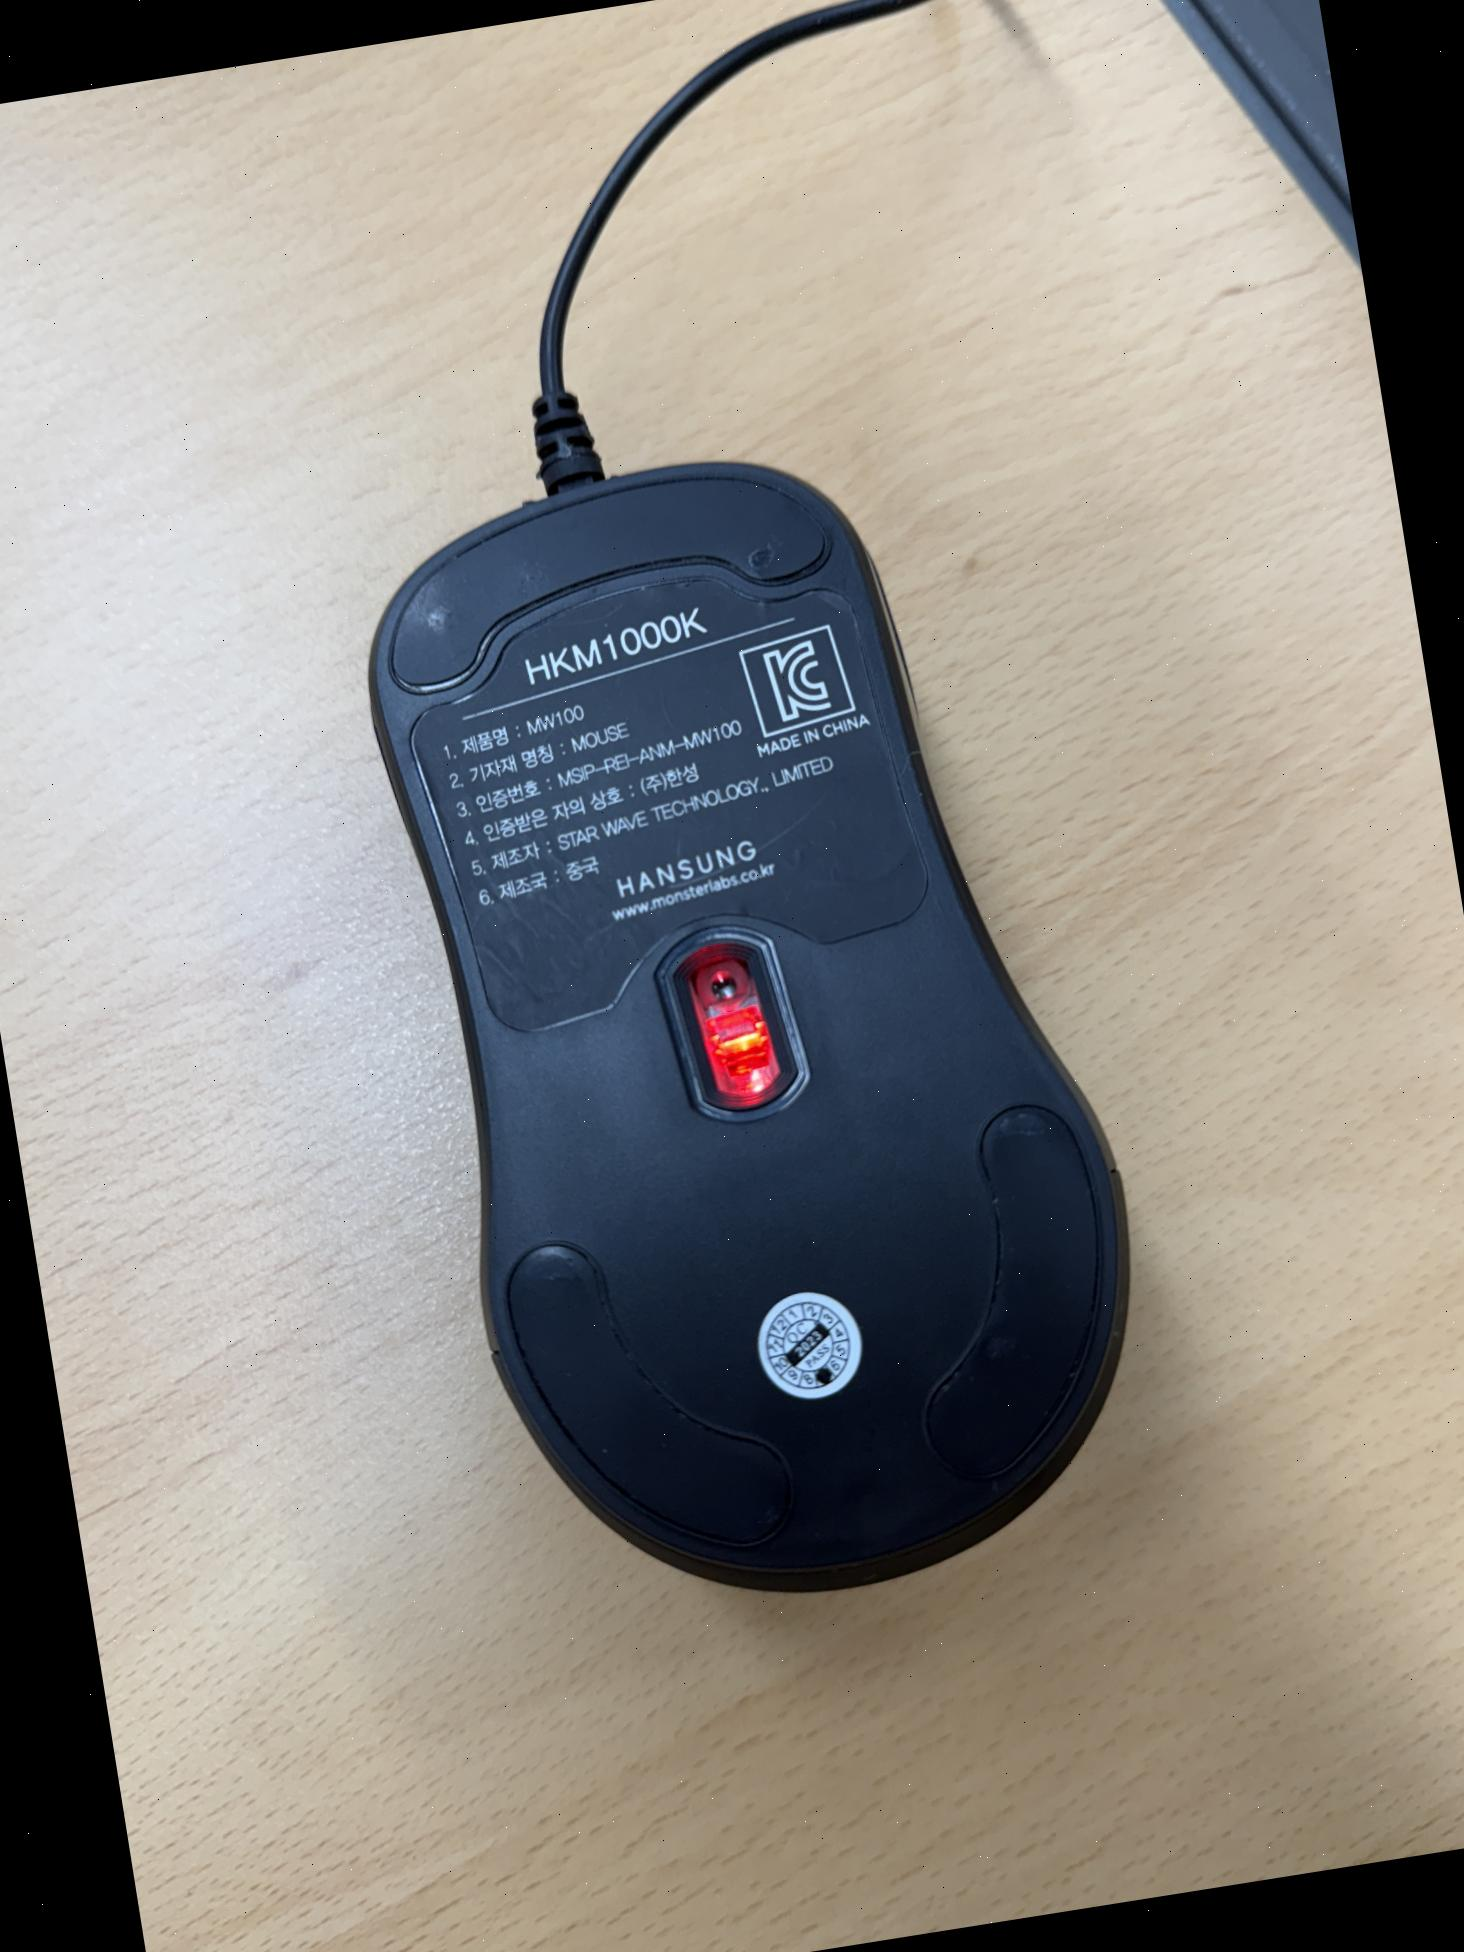back: (325, 403, 1192, 1653)
